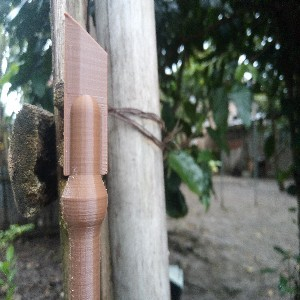cutter: (60, 12, 110, 300)
